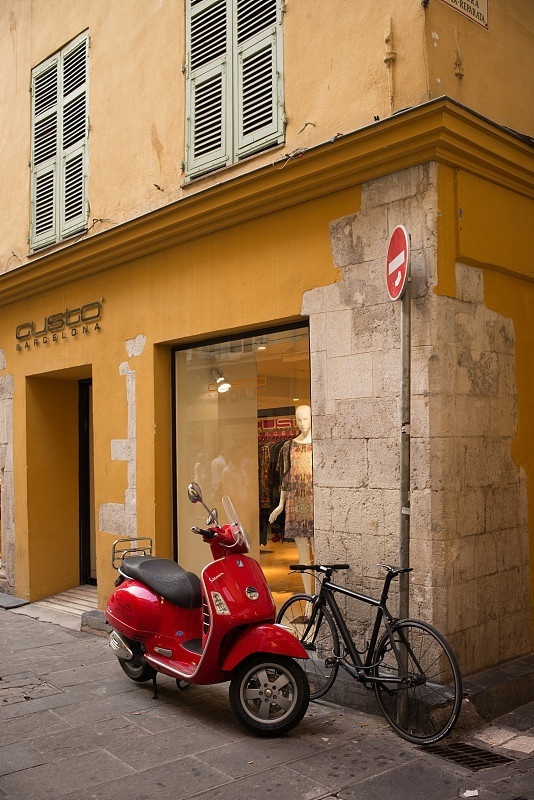non-vehicle: (88, 484, 320, 740), (283, 555, 475, 745)
